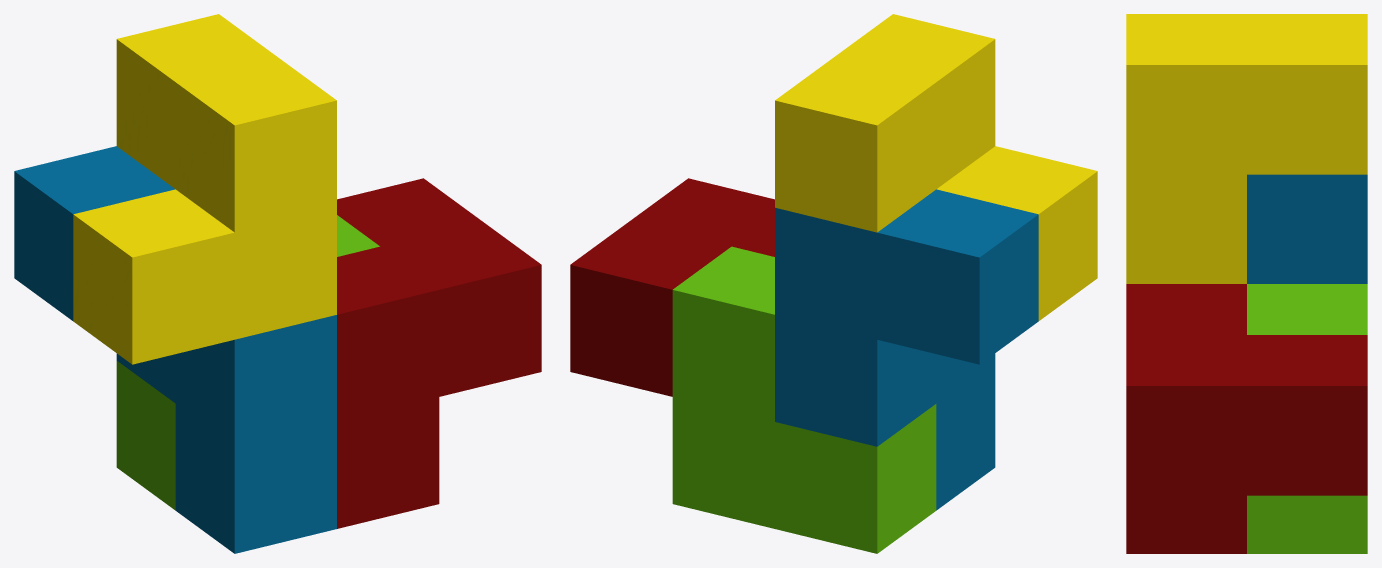
3 views of the same model, side by side, from view 1: azimuth 30°, elevation 25°; view 2: azimuth 150°, elevation 25°; view 3: azimuth 270°, elevation 25° (orthographic). The views are drawn at different scales.
Visible parts, largest first — view 1: mergedBlocks(Clone); view 2: mergedBlocks(Clone); view 3: mergedBlocks(Clone).
Part boxes in pixels (x1,y1,x2,y2): mergedBlocks(Clone): [14, 14, 541, 553]; mergedBlocks(Clone): [570, 14, 1097, 553]; mergedBlocks(Clone): [1126, 14, 1367, 553].
Size of the model in its own units: 4 by 4 by 2.
4 materials, 4 textured.
